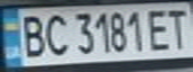1: (90, 9, 112, 54), (124, 7, 145, 52)
3: (69, 9, 93, 55)
8: (109, 8, 130, 53)
B: (15, 11, 48, 58)
C: (39, 10, 69, 57)
E: (145, 6, 175, 52)
T: (163, 4, 193, 51)
